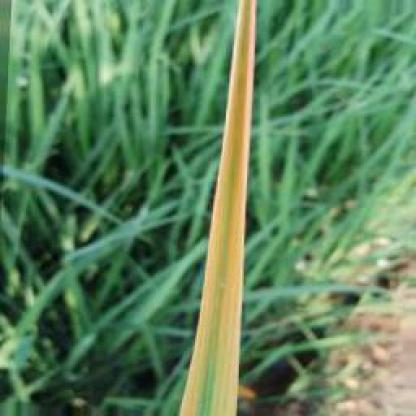Tungro: (175, 3, 260, 416)
